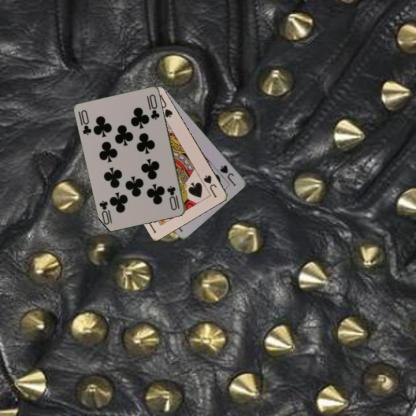10c: (76, 108, 93, 136), (165, 183, 181, 212)
Js: (218, 162, 238, 188), (201, 173, 218, 199)
